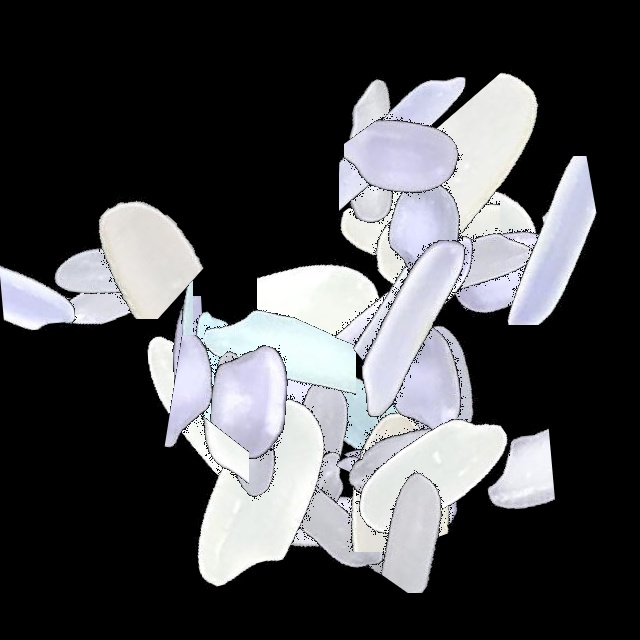Broken: (339, 22, 513, 272), (327, 419, 577, 592), (322, 148, 494, 398), (343, 180, 513, 430), (390, 156, 640, 325), (406, 66, 570, 316), (344, 60, 507, 310), (308, 430, 558, 593), (259, 393, 509, 552), (186, 253, 338, 503), (204, 270, 356, 520), (289, 286, 439, 536), (0, 174, 250, 319), (257, 174, 393, 424), (366, 86, 500, 336), (194, 391, 444, 523), (309, 385, 440, 635), (110, 335, 360, 461), (366, 407, 616, 529), (20, 296, 270, 413), (428, 118, 536, 368), (0, 148, 108, 398), (127, 411, 377, 516), (36, 125, 136, 375), (94, 143, 193, 393), (273, 392, 523, 489), (368, 9, 458, 259), (168, 449, 418, 537), (259, 386, 509, 471), (0, 219, 250, 302), (169, 346, 249, 596)
Full: (88, 288, 338, 538), (315, 108, 565, 358), (179, 264, 429, 514), (190, 321, 440, 571), (0, 162, 250, 412), (248, 24, 498, 274), (0, 146, 250, 396), (378, 148, 628, 398), (230, 390, 480, 640), (338, 144, 588, 394), (201, 388, 451, 638), (301, 106, 551, 356), (131, 366, 381, 616), (119, 299, 369, 549), (316, 262, 566, 512), (125, 275, 375, 525), (293, 343, 543, 593), (301, 255, 551, 505), (290, 201, 540, 451)
